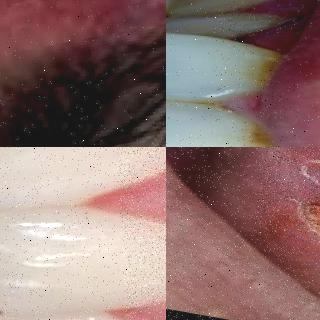Gum Swelling: (221, 146, 320, 279), (88, 152, 166, 240), (240, 0, 306, 54), (110, 284, 166, 320)
